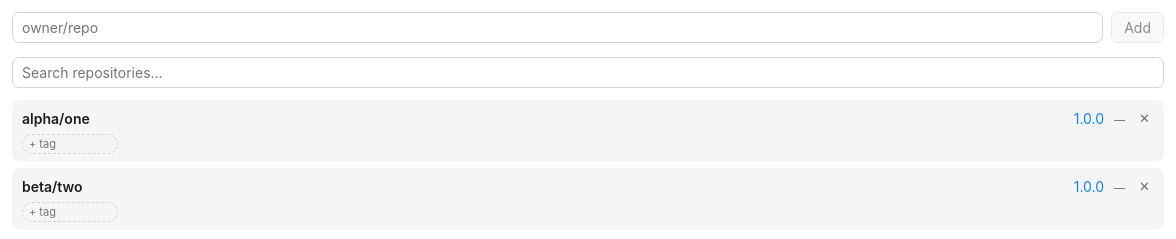
RepositoriesTab › filters the list by the search query
The width and height of the screenshot is (1176, 239).
Expected: the text "alpha/one" is shown, [22, 110, 90, 126]
Expected: the text "beta/two" is shown, [22, 178, 83, 194]
Type "alpha" into the search field with placeholder "Search repositories…".
click(588, 72); type("alpha")  # box [12, 57, 1164, 88]
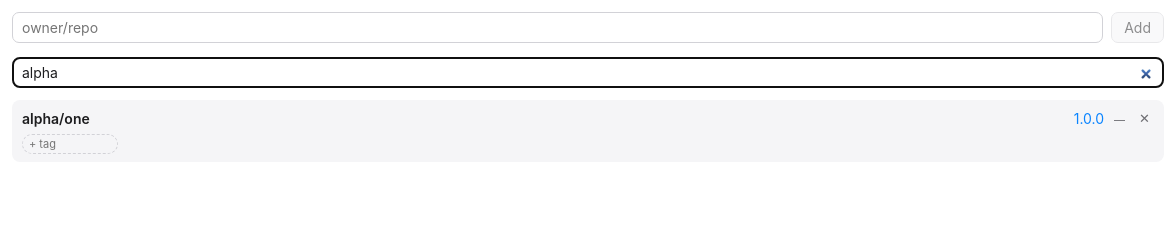
Expected: the text "alpha/one" is shown, [22, 110, 90, 126]
Expected: the text "beta/two" is gone
